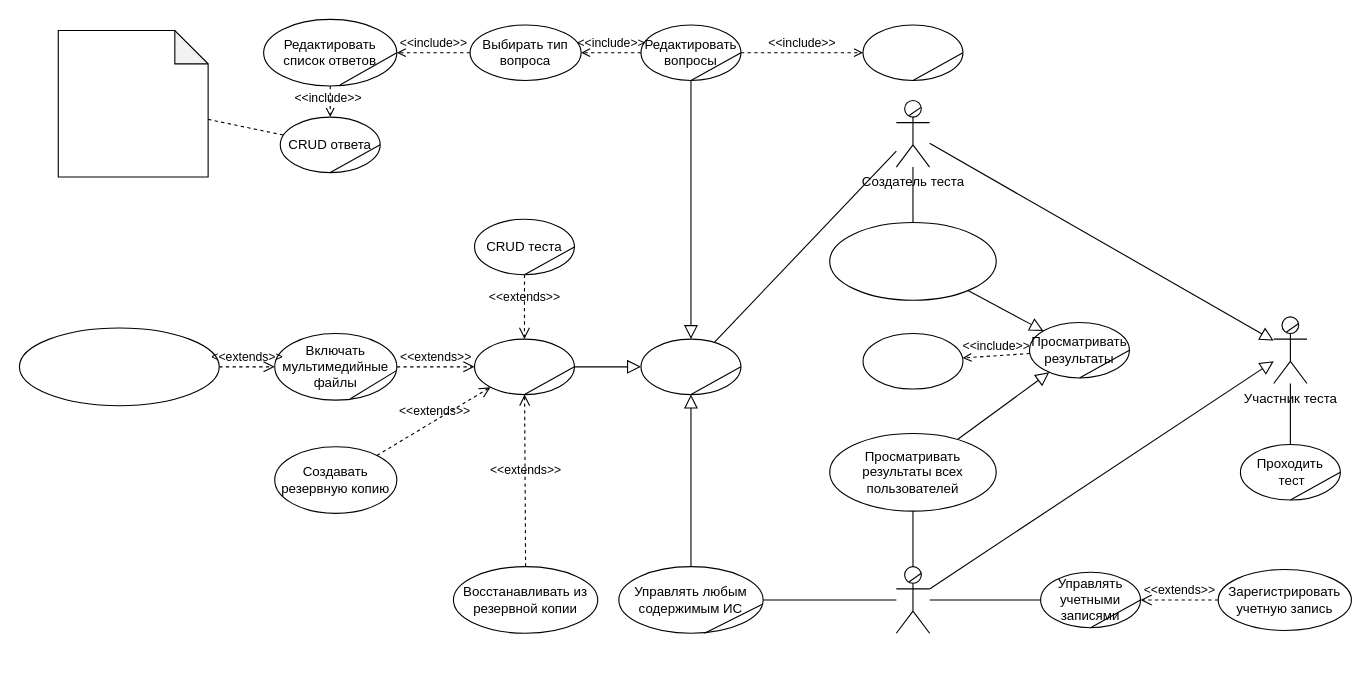
This 1371x676 diagram has some shape labels left out. The box of each missing label's shape, as (x1, y1, x2, y2) in pixels:
CRUD вопроса: (862, 24, 963, 80)
Здесь и в других местах диаграммы CRUD - аббревиатура CREATE READ UPDATE DELETE: (57, 29, 208, 177)
Менеджер: (895, 566, 930, 633)
Просматривать результаты пользователей у своих тестов: (829, 221, 996, 300)
Скрывать отображение видео перед ответом на вопрос: (18, 327, 219, 406)
Управлять содержимым ИС: (640, 338, 741, 395)
Управлять тестами: (473, 338, 574, 395)
Фильтрация выдачи: (862, 332, 963, 389)
